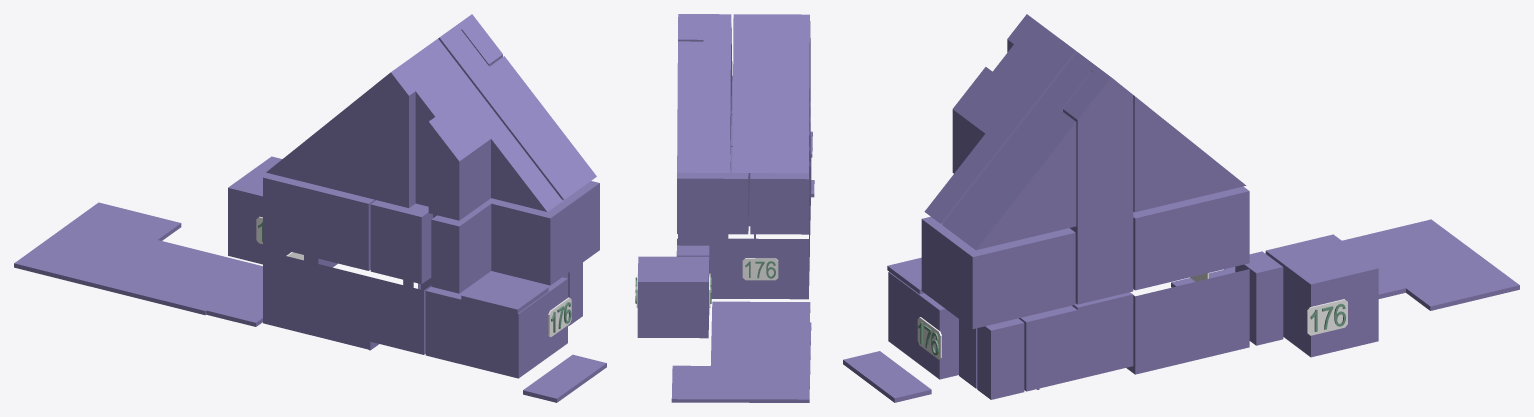
The picture shows the model from 3 angles, left to right: view 1: azimuth 30°, elevation 25°; view 2: azimuth 150°, elevation 25°; view 3: azimuth 270°, elevation 25°; orthographic projection. The views are drawn at different scales.
Visible parts, largest first — view 1: g_6, g_15, g_11, g_1, g_2, g_10, g_7, g_12, g_0, g_16, g_17, g_8 (+1 smaller); view 2: g_6, g_15, g_7, g_0, g_1, g_9, g_10, g_8, g_25, g_5, g_3, g_2; view 3: g_7, g_11, g_6, g_3, g_1, g_15, g_9, g_0, g_8, g_14, g_2, g_4 (+4 smaller).
Part boxes in pixels (bbox=[...]): g_6: bbox=[266, 39, 562, 220]; g_15: bbox=[14, 202, 262, 326]; g_11: bbox=[431, 181, 599, 293]; g_1: bbox=[263, 250, 431, 354]; g_2: bbox=[425, 271, 567, 378]; g_10: bbox=[263, 173, 375, 270]; g_7: bbox=[438, 25, 596, 199]; g_12: bbox=[370, 200, 432, 284]; g_0: bbox=[228, 156, 290, 264]; g_16: bbox=[461, 273, 548, 313]; g_17: bbox=[523, 354, 606, 402]; g_8: bbox=[456, 14, 502, 66]; g_6: bbox=[732, 14, 810, 173]; g_15: bbox=[671, 301, 811, 402]; g_7: bbox=[677, 14, 732, 172]; g_0: bbox=[637, 256, 709, 338]; g_1: bbox=[677, 182, 810, 299]; g_9: bbox=[677, 147, 748, 234]; g_10: bbox=[750, 146, 809, 234]; g_8: bbox=[678, 14, 703, 41]; g_25: bbox=[742, 258, 778, 280]; g_5: bbox=[676, 245, 709, 256]; g_3: bbox=[678, 234, 728, 238]; g_2: bbox=[748, 158, 811, 226]; g_7: bbox=[942, 52, 1246, 250]; g_11: bbox=[921, 216, 1075, 328]; g_6: bbox=[924, 14, 1076, 223]; g_3: bbox=[959, 292, 1133, 391]; g_1: bbox=[1126, 269, 1249, 374]; g_15: bbox=[1171, 219, 1519, 310]; g_9: bbox=[1133, 186, 1249, 290]; g_0: bbox=[1265, 234, 1378, 357]; g_8: bbox=[1063, 65, 1133, 226]; g_14: bbox=[1070, 213, 1133, 304]; g_2: bbox=[888, 272, 958, 379]; g_4: bbox=[977, 318, 1024, 399].
Bounding box in the file's own units: 13.87 × 10.25 × 20.4.
